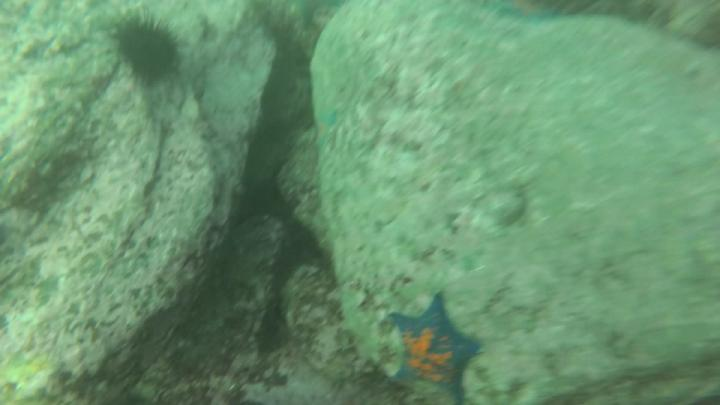echinus: (107, 9, 185, 93)
starfish: (385, 294, 487, 405)
